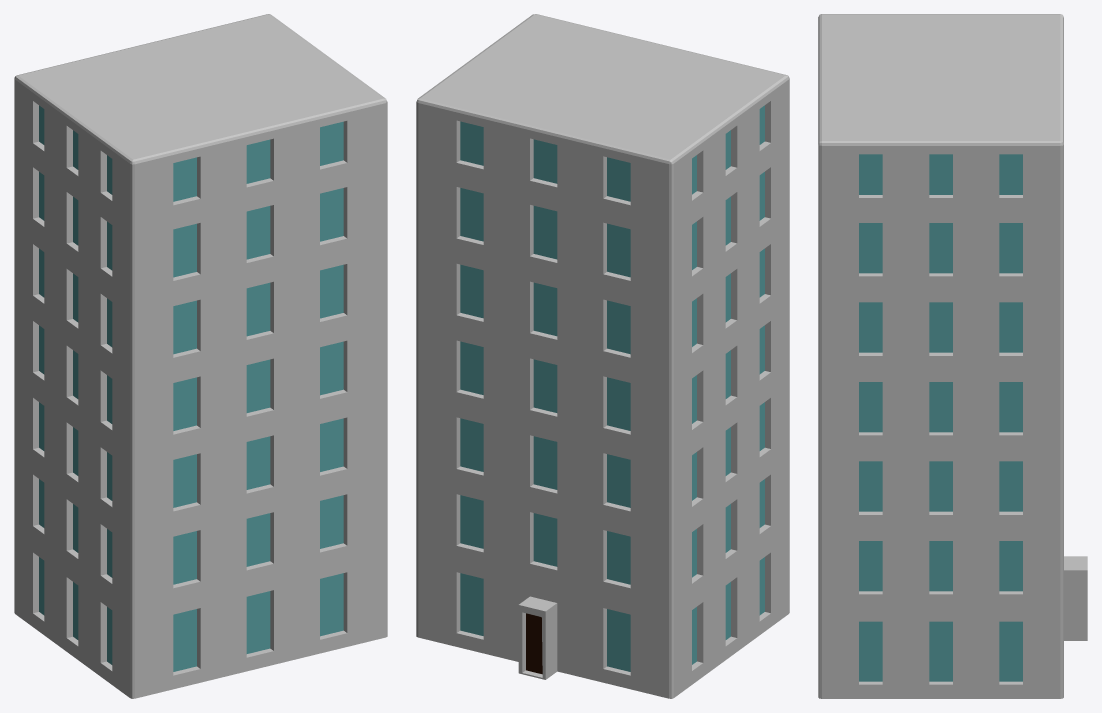
File: skyscraper_white.FBX
The picture shows the model from 3 angles, left to right: view 1: azimuth 30°, elevation 25°; view 2: azimuth 150°, elevation 25°; view 3: azimuth 270°, elevation 25°; orthographic projection. The views are drawn at different scales.
Parts seen in each view (by area): view 1: Box001, Object001; view 2: Box001, Object001, Object002; view 3: Box001, Object001.
Part boxes in pixels (x1,y1,x2,y2): Box001: [14, 14, 387, 698]; Object001: [39, 105, 343, 671]; Box001: [416, 14, 789, 698]; Object001: [460, 105, 764, 671]; Object002: [526, 613, 542, 674]; Box001: [818, 14, 1087, 698]; Object001: [859, 154, 1022, 681].
Size of the model in its own units: 100 by 200 by 87.75.
